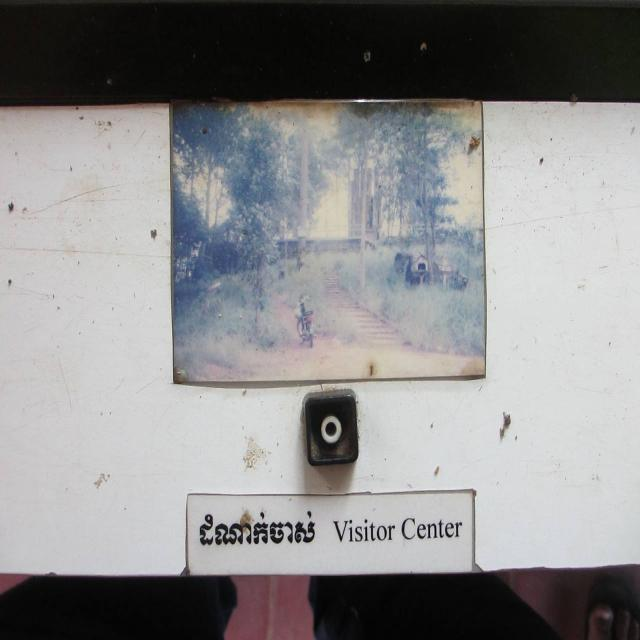Yolov11_80vkh: (195, 507, 316, 550)
